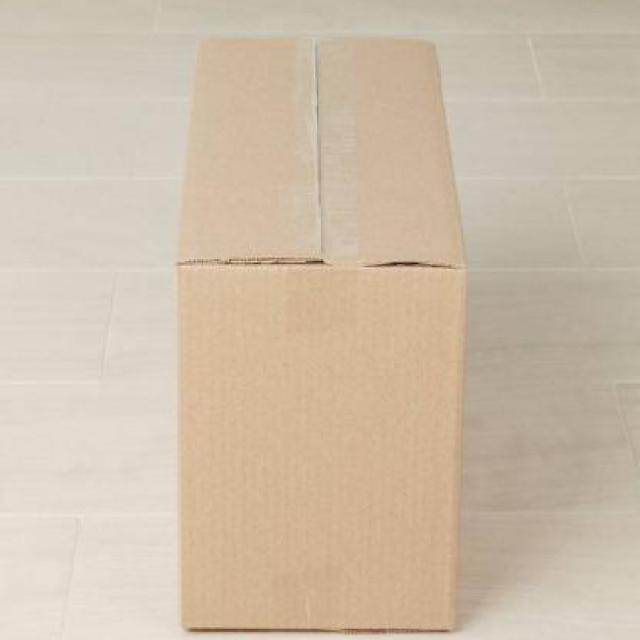box: (169, 16, 480, 640)
